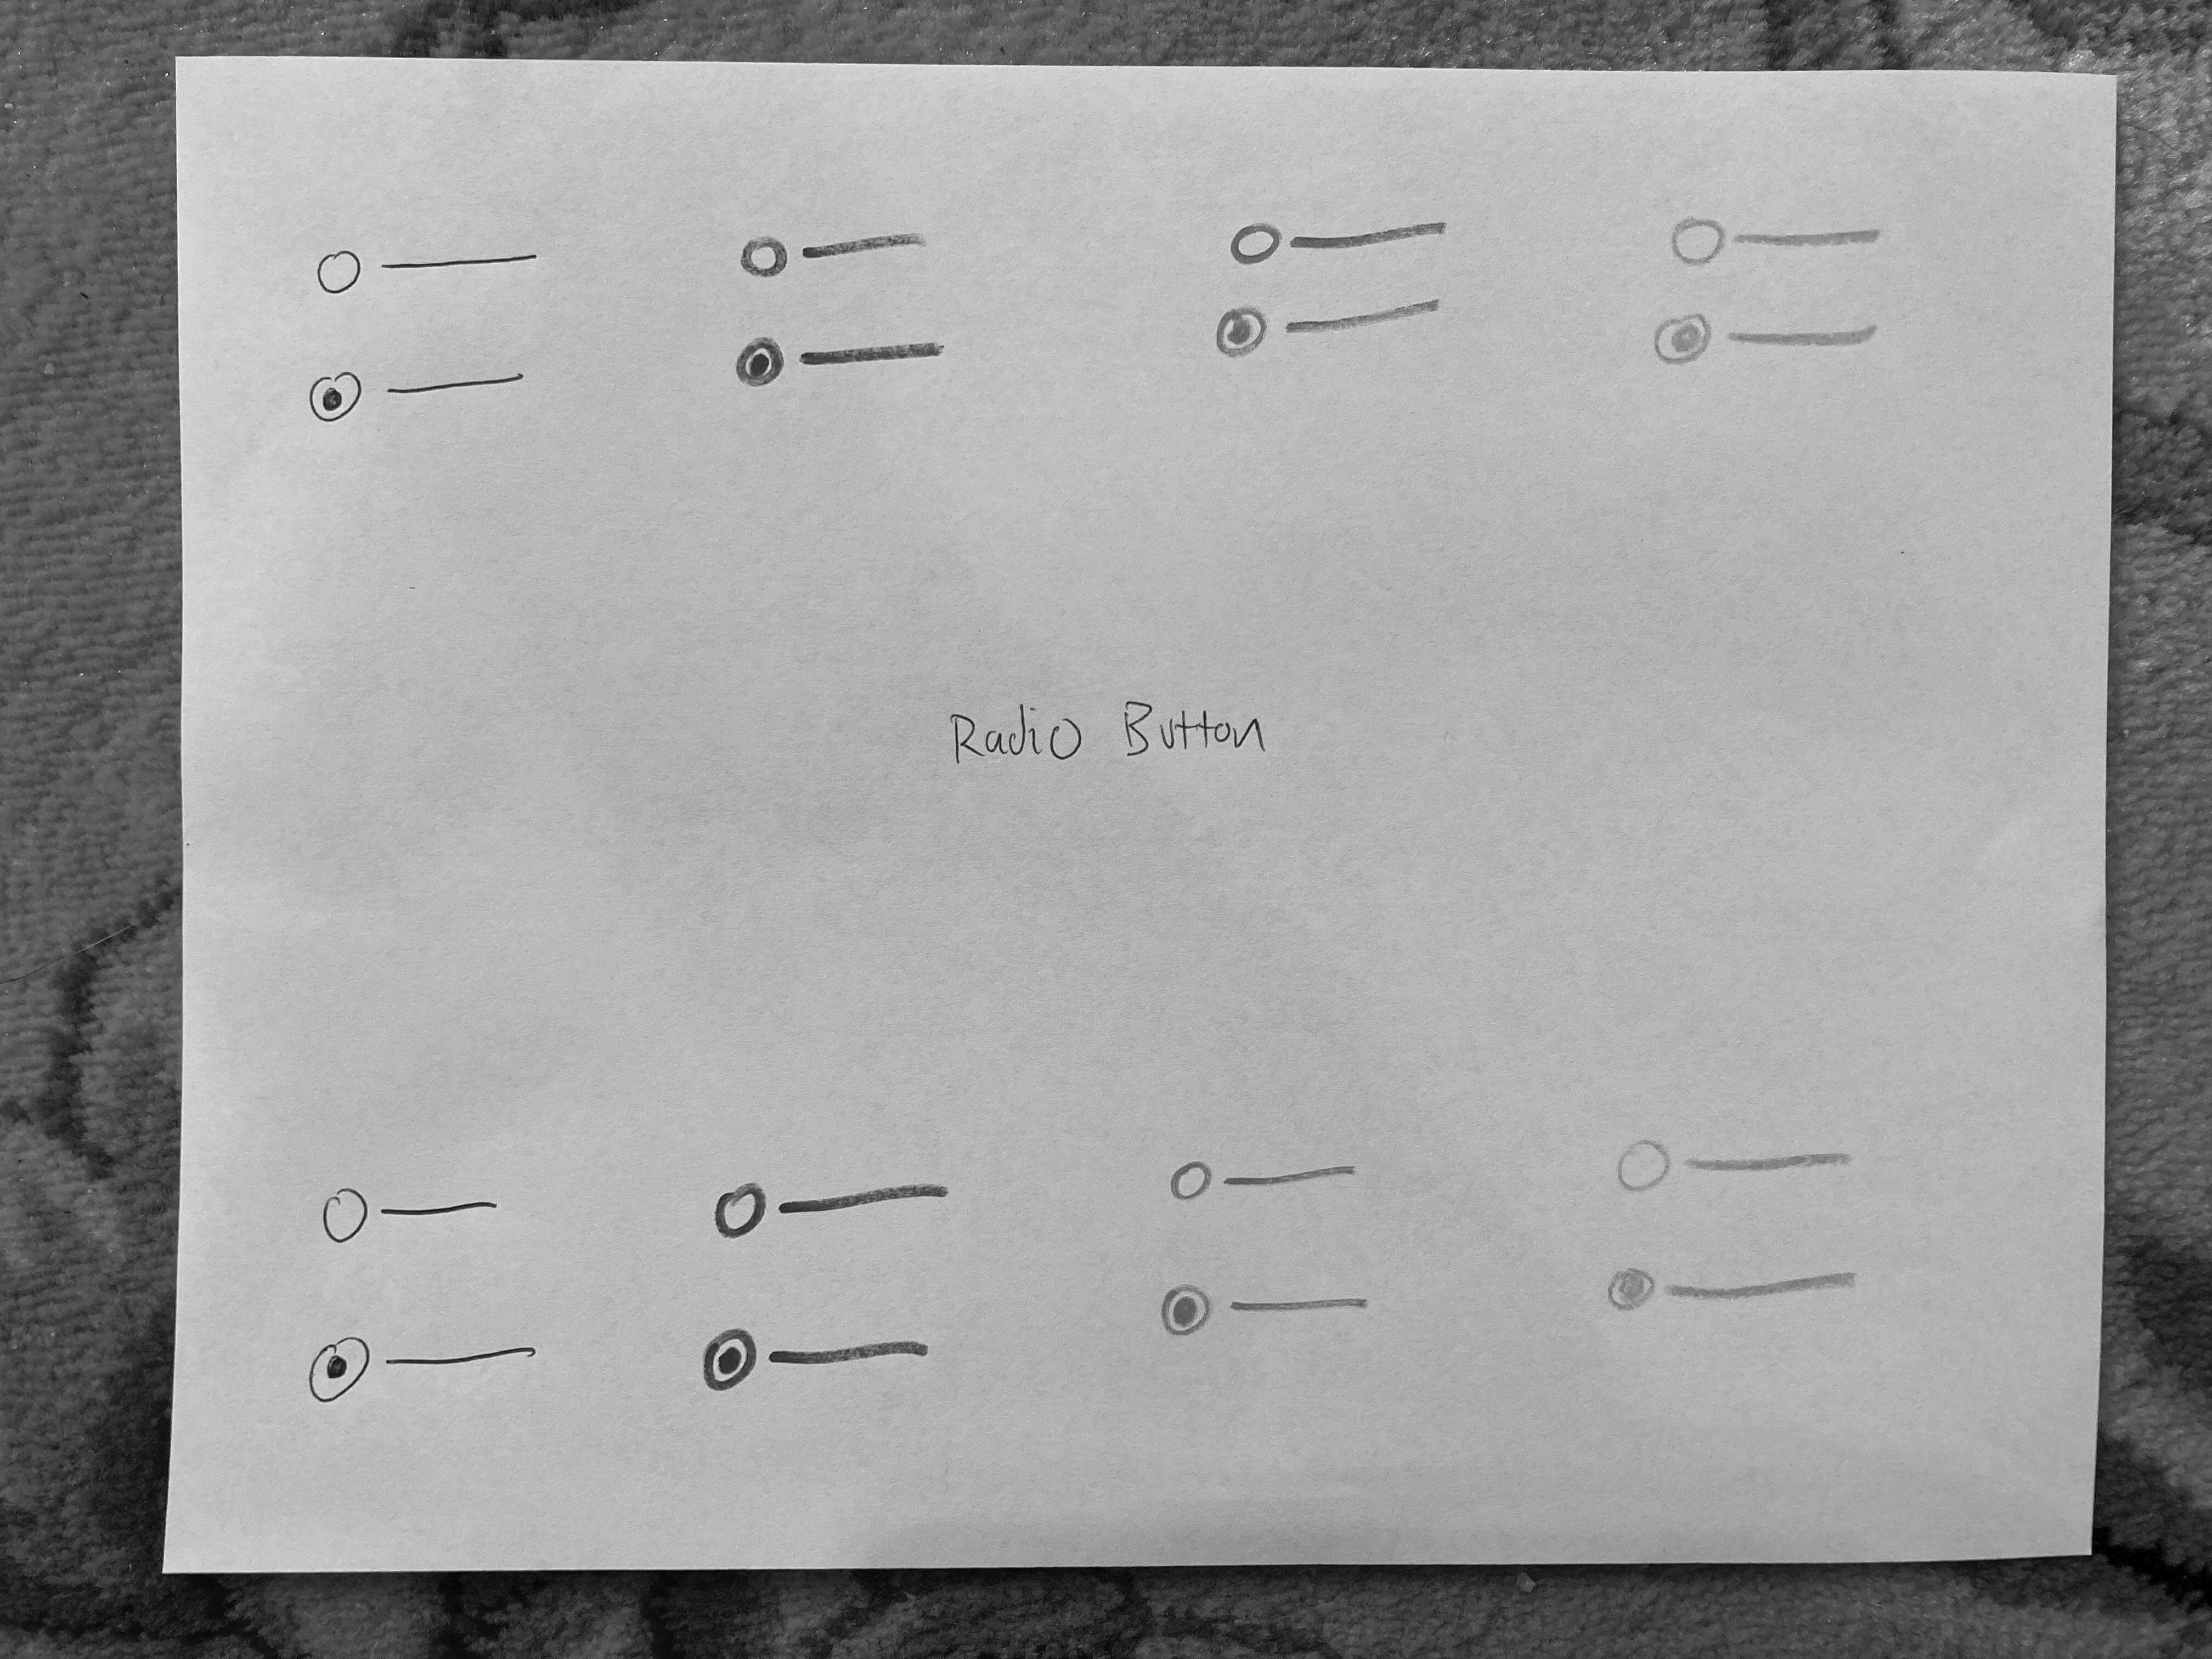radio-button: (695, 1316, 941, 1399), (1597, 1251, 1869, 1326), (1608, 1124, 1860, 1201), (303, 1326, 549, 1405), (1646, 301, 1888, 380), (1658, 199, 1892, 277), (712, 1166, 951, 1243), (1151, 1272, 1386, 1349), (732, 321, 954, 396), (303, 357, 538, 427), (1221, 206, 1461, 274), (1214, 295, 1458, 361), (1158, 1147, 1362, 1216), (307, 1178, 512, 1246), (310, 240, 543, 300), (737, 223, 928, 286)
